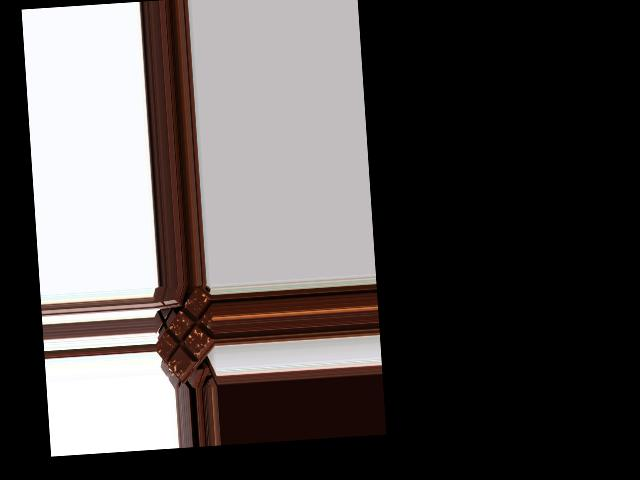chocolate: (153, 286, 217, 378)
